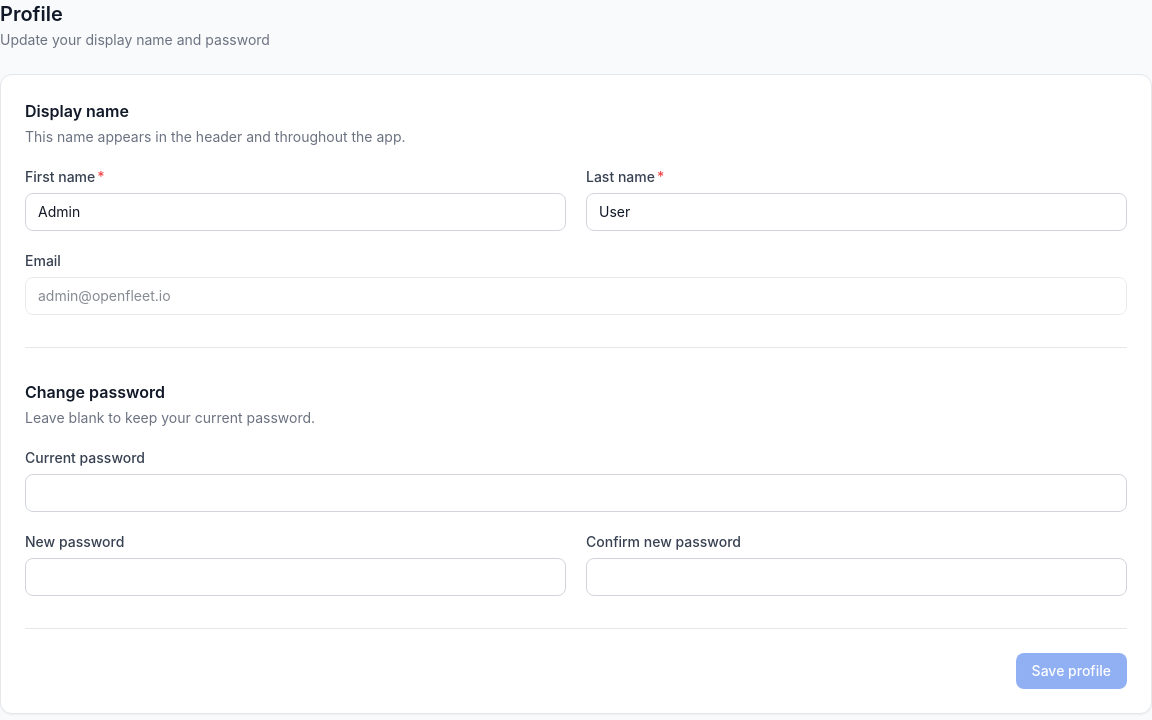
ProfilePage › shows backend 403 restriction without logging out
Replace the text in the field labelled "First name*" with "Hacker" at (296, 212), box top-left (25, 193), bottom-right (566, 231)
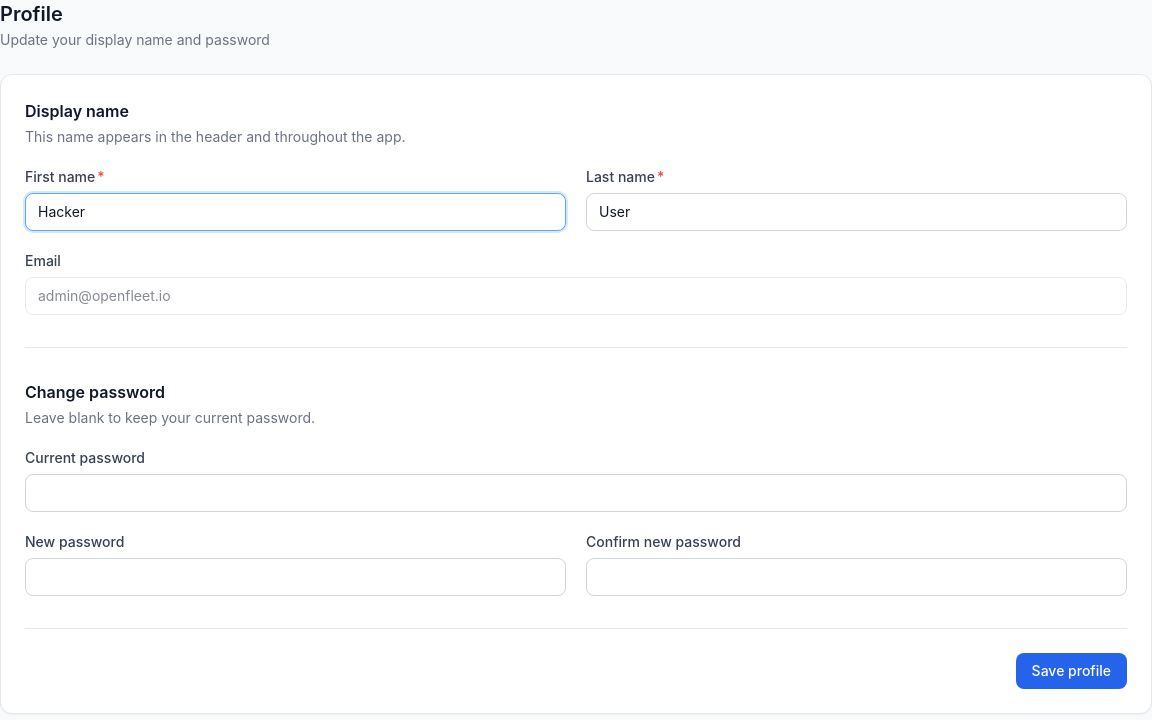
Click the button "Save profile" at (1071, 671), box top-left (1016, 653), bottom-right (1127, 689)
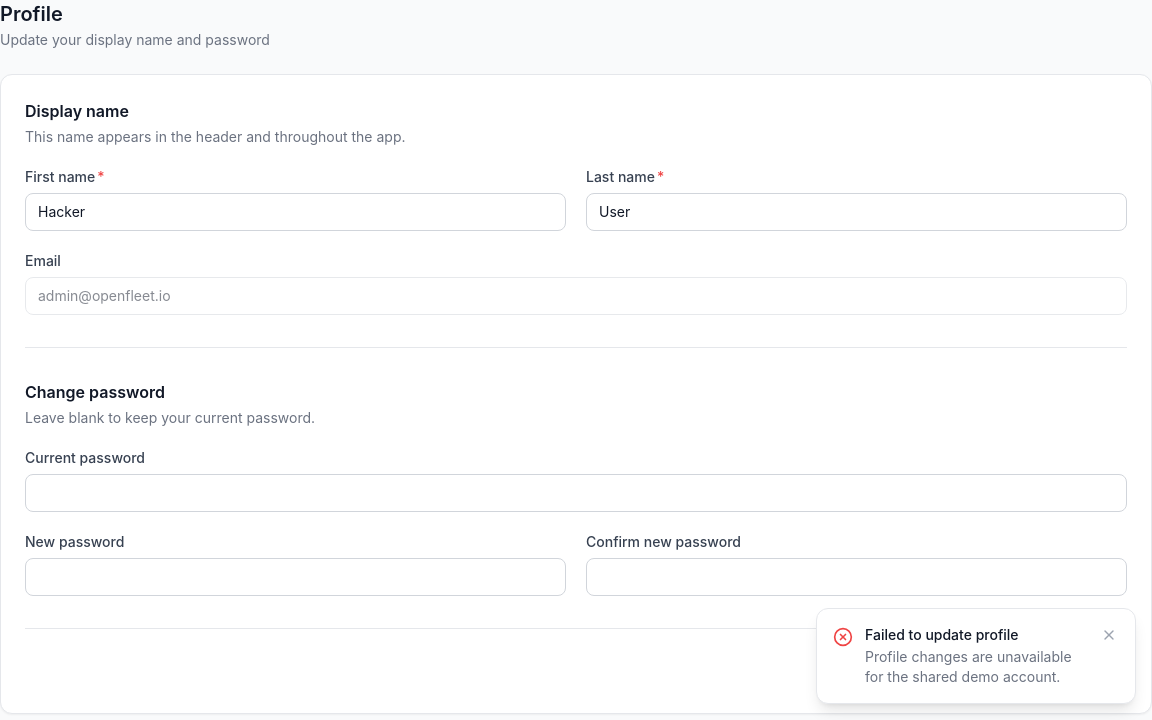
Expected: the text "Profile changes are unavailable for the shared demo account." is shown, top-left (865, 647), bottom-right (1083, 687)
